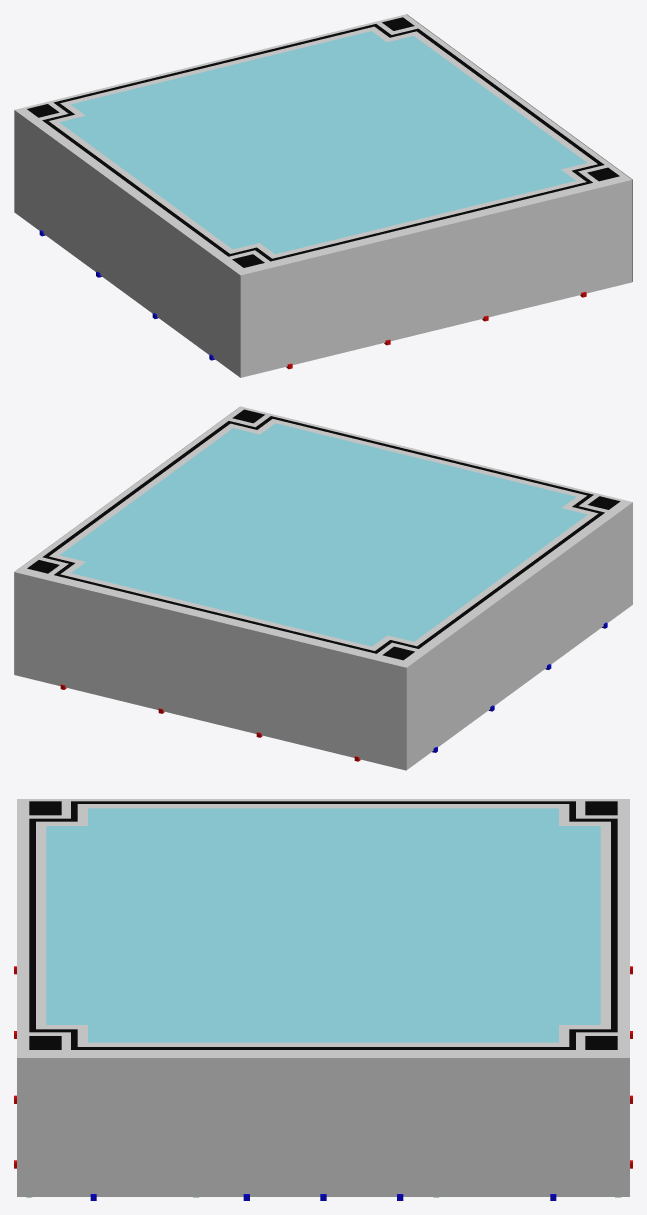
3 views of the same model, one above another, from view 1: azimuth 30°, elevation 25°; view 2: azimuth 150°, elevation 25°; view 3: azimuth 270°, elevation 25° (orthographic). The views are drawn at different scales.
Parts seen in each view (by area): view 1: cube, col2; view 2: col2, cube, pa5, pa7, pa8, pa6; view 3: col2, cube.
Part boxes in pixels (x1=…): cube: x1=14, y1=14, x2=632, y2=377; col2: x1=27, y1=17, x2=619, y2=267; col2: x1=27, y1=409, x2=620, y2=660; cube: x1=14, y1=406, x2=632, y2=770; pa5: x1=14, y1=572, x2=112, y2=698; pa7: x1=210, y1=620, x2=308, y2=746; pa8: x1=308, y1=644, x2=406, y2=770; pa6: x1=112, y1=596, x2=210, y2=722; col2: x1=29, y1=801, x2=617, y2=1049; cube: x1=17, y1=799, x2=629, y2=1196.
Size of the model in its own units: 20.2 by 5.21 by 20.2.
